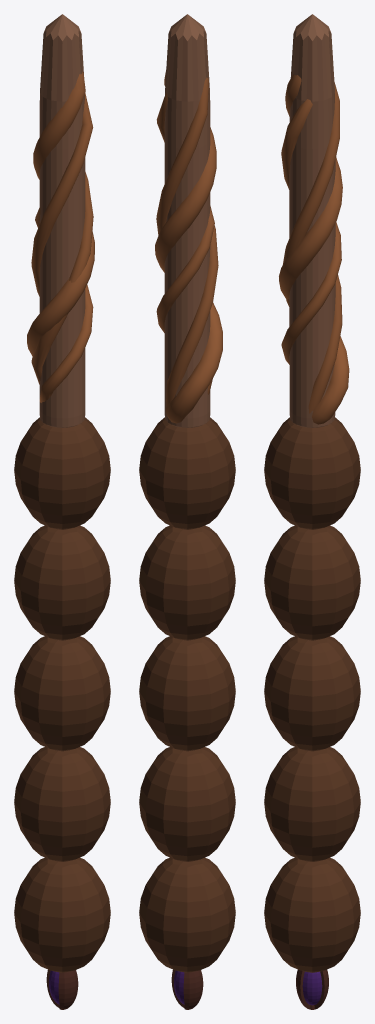
The model's file is Wand 277.glb.
3 renders of one model, left to right at view 1: azimuth 30°, elevation 25°; view 2: azimuth 210°, elevation 25°; view 3: azimuth 270°, elevation 25°, orthographic.
Visible parts, largest first — view 1: GeneratedWand; view 2: GeneratedWand; view 3: GeneratedWand.
Part boxes in pixels (x1,y1,x2,y2): GeneratedWand: (14, 14, 110, 1009); GeneratedWand: (139, 14, 235, 1009); GeneratedWand: (264, 14, 360, 1009).
Size of the model in its own units: 0.0447 by 0.5097 by 0.0449.
